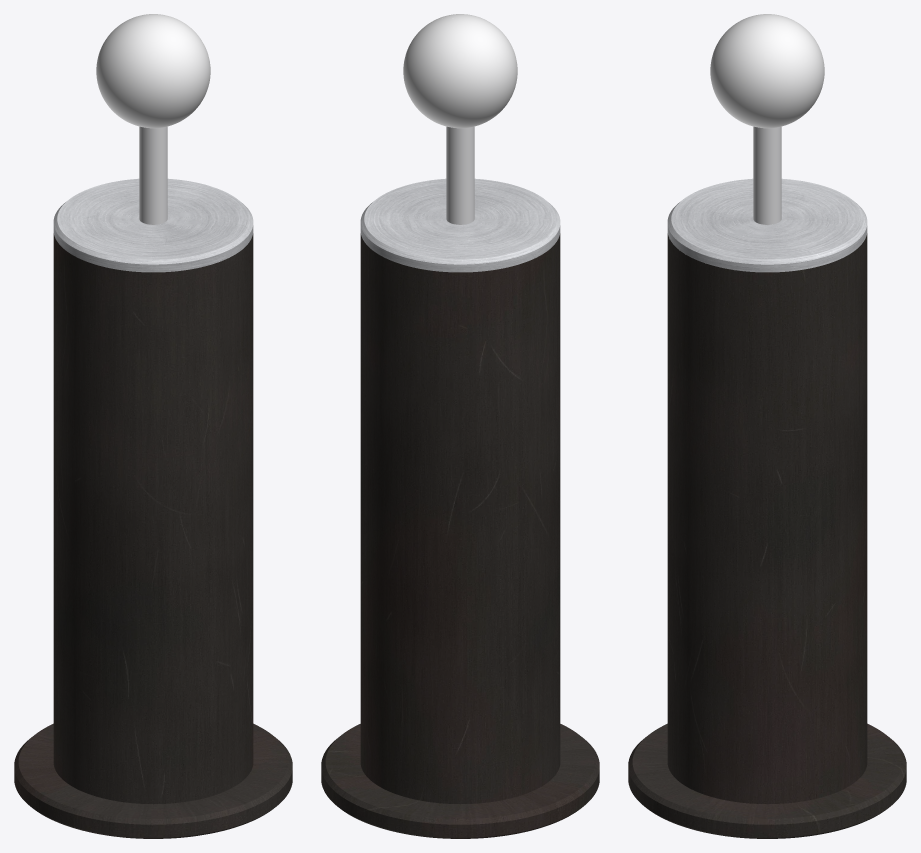
The model's file is king-black-hd.glb.
3 renders of one model, left to right at view 1: azimuth 30°, elevation 25°; view 2: azimuth 150°, elevation 25°; view 3: azimuth 270°, elevation 25°, orthographic.
Visible parts, largest first — view 1: ferro-orbis_king_black; view 2: ferro-orbis_king_black; view 3: ferro-orbis_king_black.
Boxes of the visible parts, x1,y1,x2,y2 form: ferro-orbis_king_black: (14,14,292,838); ferro-orbis_king_black: (321,14,599,838); ferro-orbis_king_black: (628,14,906,838).
Size of the model in its own units: 0.5469 by 1.65 by 0.5469.
Materials: 4 (2 with a texture image).
